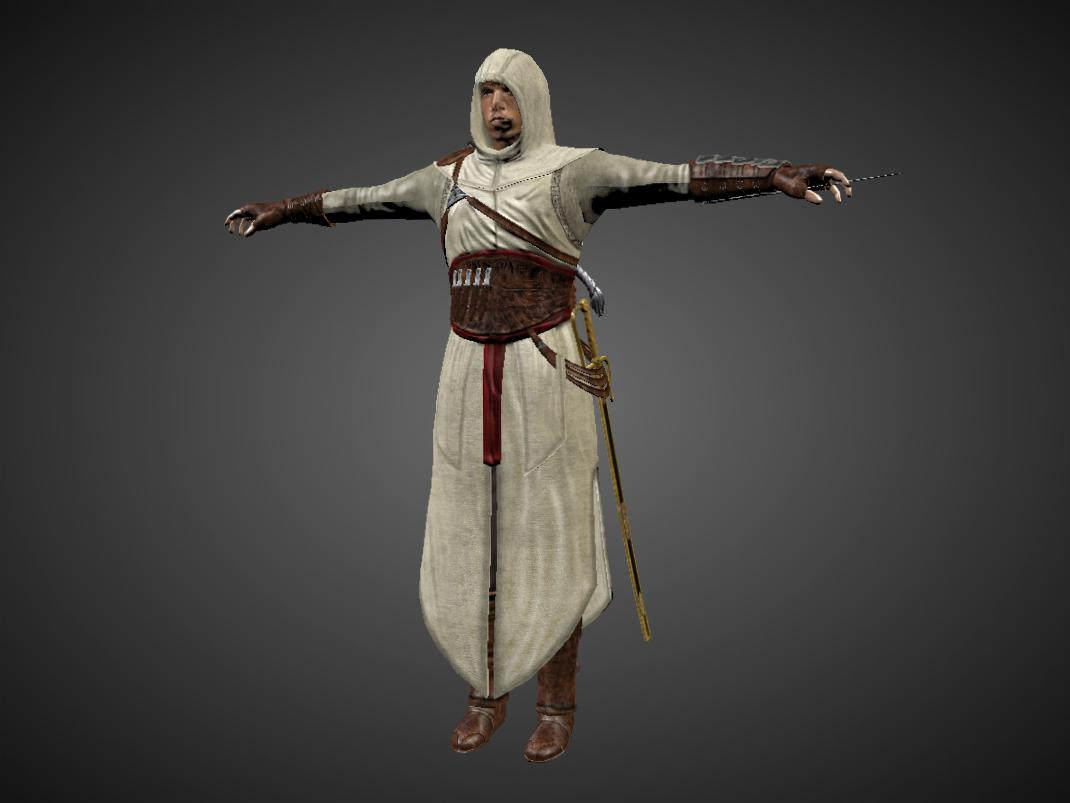clip: (555, 345, 575, 382)
